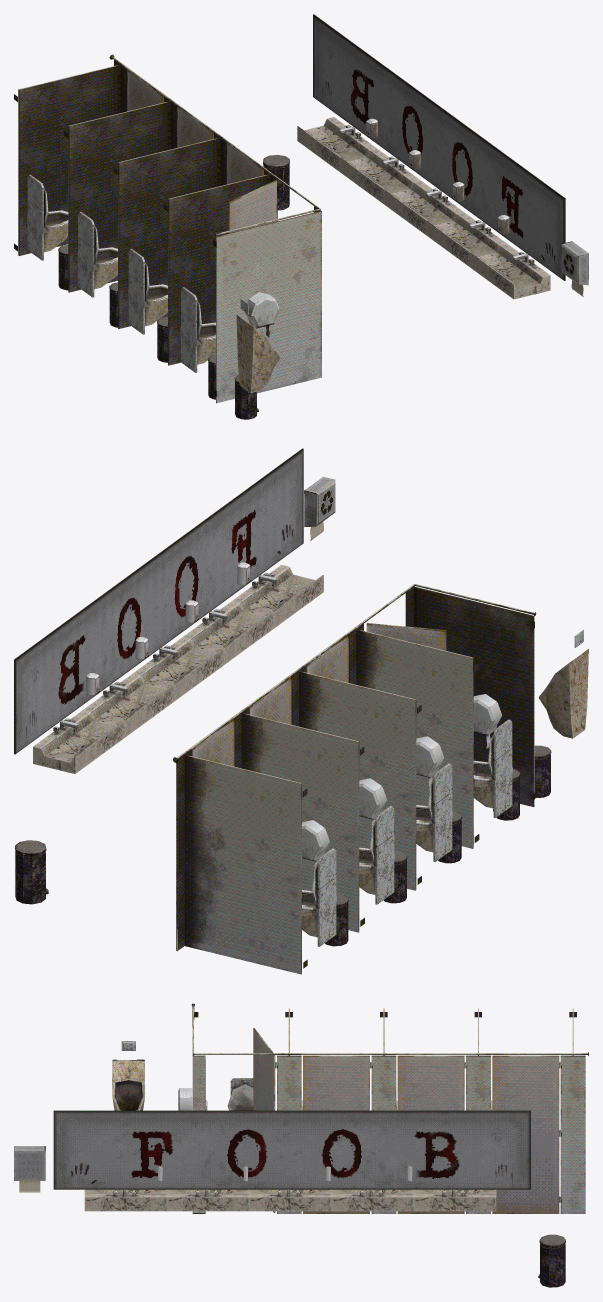
Rendered from Baño_Completo.fbx.
The picture shows the model from 3 angles, top to bottom: view 1: azimuth 30°, elevation 25°; view 2: azimuth 150°, elevation 25°; view 3: azimuth 270°, elevation 25°; orthographic projection. The views are drawn at different scales.
Parts seen in each view (by area): view 1: Espejo, polySurface29, polySurface94, polySurface92, polySurface93, polySurface37, Lavamanos5_Llaves_Agua, Lavamanos5_Llaves_Agua3, Lavamanos5_Llaves_Agua4, Lavamanos5_Llaves_Agua1, Lavamanos5_Llaves_Agua2, Mingitorio (+17 smaller); view 2: Espejo, polySurface94, polySurface93, polySurface37, polySurface92, polySurface29, Lavamanos5_Llaves_Agua4, Lavamanos5_Llaves_Agua2, Lavamanos5_Llaves_Agua3, Lavamanos5_Llaves_Agua, Lavamanos5_Llaves_Agua1, Mingitorio (+19 smaller); view 3: Espejo, pCube62, polySurface94, pCube61, pCube60, Lavamanos5_Llaves_Agua, Lavamanos5_Llaves_Agua4, Lavamanos5_Llaves_Agua3, Lavamanos5_Llaves_Agua2, Lavamanos5_Llaves_Agua1, Mingitorio, polySurface92 (+8 smaller).
Part boxes in pixels (x1,y1,x2,y2): Espejo: (313,14,565,280); polySurface29: (213,206,321,403); polySurface94: (14,60,127,255); polySurface92: (113,133,227,328); polySurface93: (64,96,177,292); polySurface37: (163,169,278,365); Lavamanos5_Llaves_Agua: (470,244,550,299); Lavamanos5_Llaves_Agua3: (340,148,420,203); Lavamanos5_Llaves_Agua4: (297,117,376,172); Lavamanos5_Llaves_Agua1: (427,212,506,267); Lavamanos5_Llaves_Agua2: (384,180,463,235); Mingitorio: (236,298,280,393); Espejo: (14,448,303,754); polySurface94: (176,749,307,974); polySurface93: (233,707,364,932); polySurface37: (348,624,479,848); polySurface92: (291,666,421,890); polySurface29: (405,586,535,806); Lavamanos5_Llaves_Agua4: (33,710,124,773); Lavamanos5_Llaves_Agua2: (132,637,224,700); Lavamanos5_Llaves_Agua3: (83,674,174,737); Lavamanos5_Llaves_Agua: (232,564,323,628); Lavamanos5_Llaves_Agua1: (183,601,273,664); Mingitorio: (539,630,588,738); Espejo: (53,1110,530,1189); pCube62: (492,1055,559,1213); polySurface94: (559,1008,585,1213); pCube61: (397,1055,464,1213); pCube60: (303,1055,369,1213); Lavamanos5_Llaves_Agua: (84,1189,167,1211); Lavamanos5_Llaves_Agua4: (413,1189,496,1211); Lavamanos5_Llaves_Agua3: (331,1189,413,1211); Lavamanos5_Llaves_Agua2: (249,1189,331,1211); Lavamanos5_Llaves_Agua1: (167,1189,249,1211); Mingitorio: (112,1041,144,1110); polySurface92: (370,1008,396,1213).
Bounding box in the file's own units: 157 × 103 × 290.
